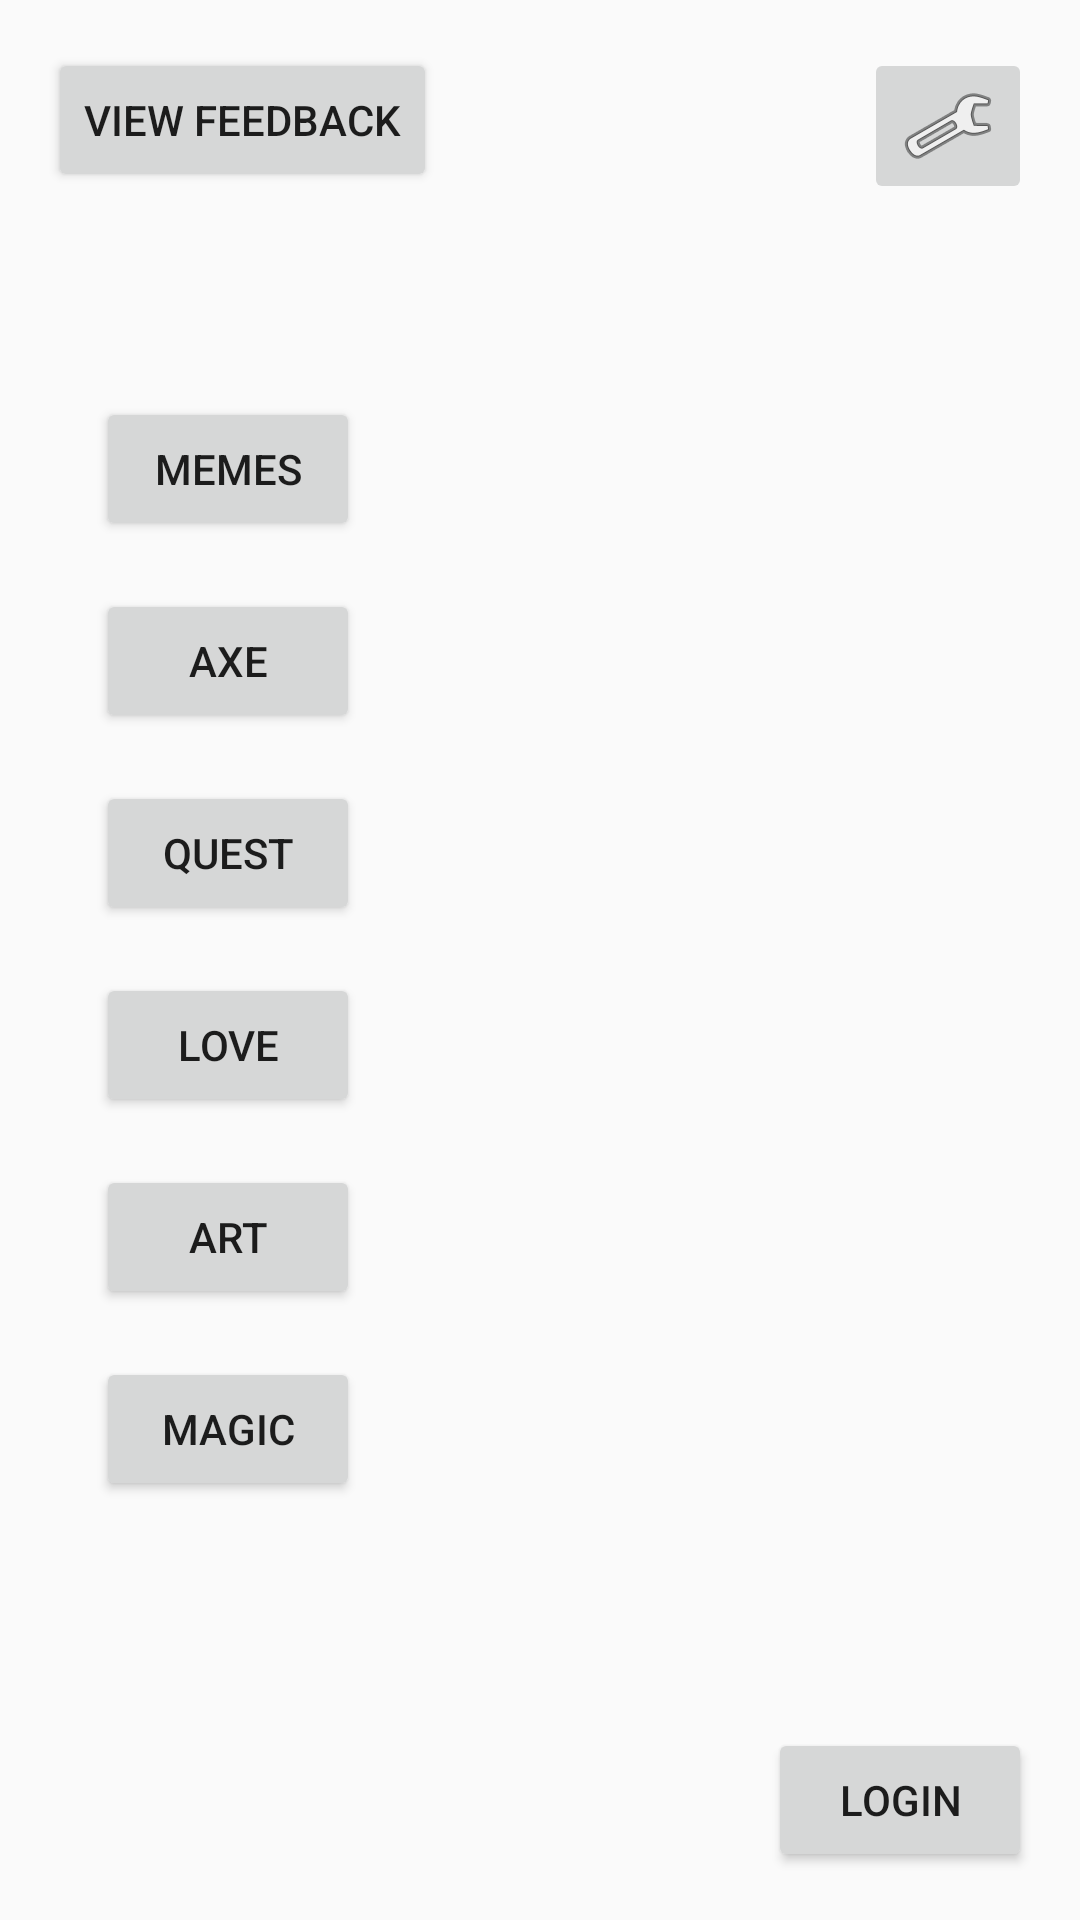

Named icons in this screenshot (1080w x 1920h) and their centers, point (x, y):
Adjust Settings: point (948, 126)
